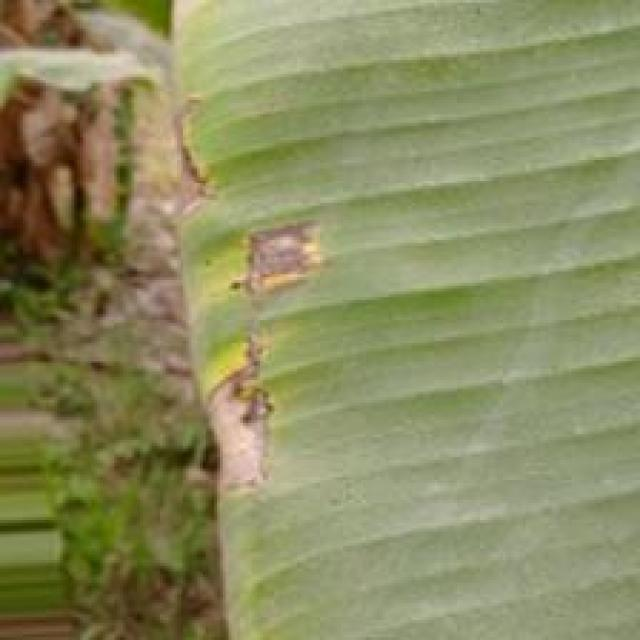Bacterial_spot: (148, 328, 308, 508), (214, 212, 328, 318), (145, 95, 227, 232)
